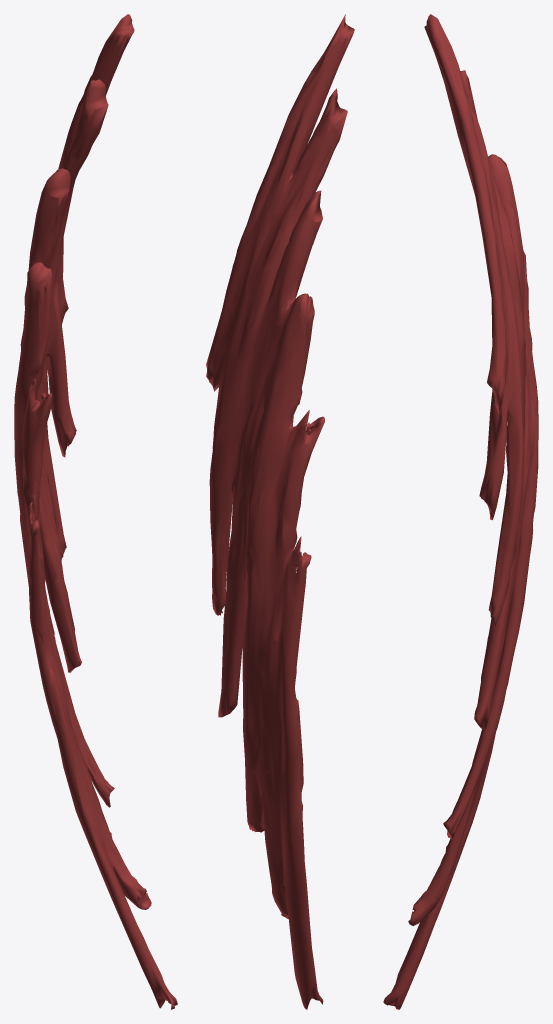
The model's file is semispinalis-thoracis-muscle-l.glb.
The picture shows the model from 3 angles, left to right: view 1: azimuth 90°, elevation 25°; view 2: azimuth 150°, elevation 25°; view 3: azimuth 270°, elevation 25°; orthographic projection. The views are drawn at different scales.
Visible parts, largest first — view 1: Semispinalis thoracis muscle.l; view 2: Semispinalis thoracis muscle.l; view 3: Semispinalis thoracis muscle.l.
Boxes of the visible parts, bbox=[...] form: Semispinalis thoracis muscle.l: bbox=[14, 14, 177, 1009]; Semispinalis thoracis muscle.l: bbox=[206, 14, 354, 1009]; Semispinalis thoracis muscle.l: bbox=[383, 14, 538, 1009].
Size of the model in its own units: 0.0354 by 0.2813 by 0.0408.
